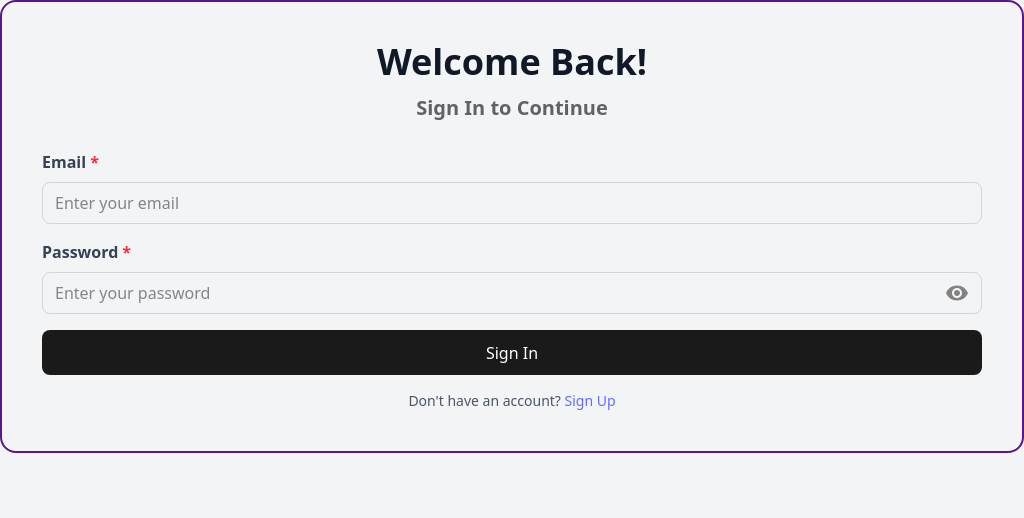
Test: SignIn Component Tests › displays validation message for invalid email format
In the field labelled "Email *": (512, 203) left=42, top=182, right=982, bottom=224, type "invalidemail"
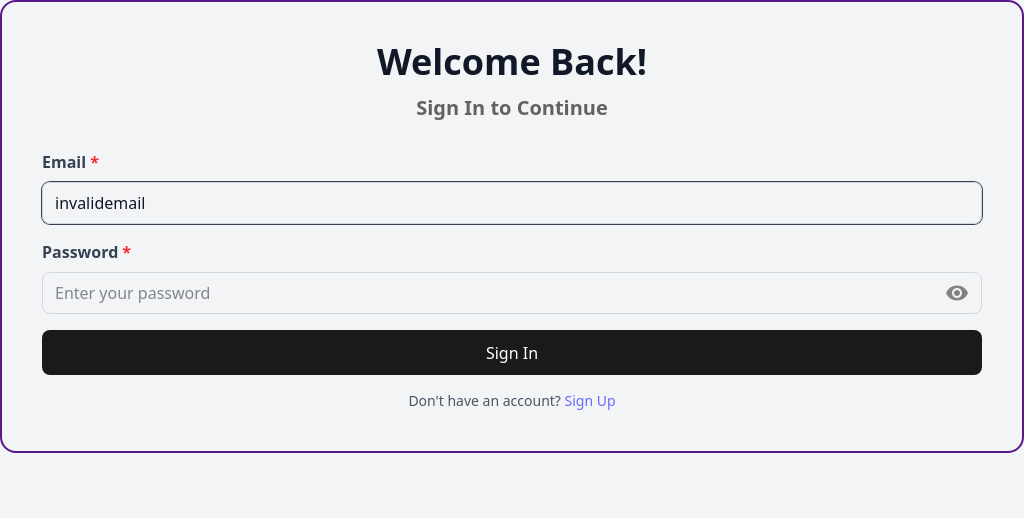
Click the button "Sign In": (512, 353) left=42, top=330, right=982, bottom=375
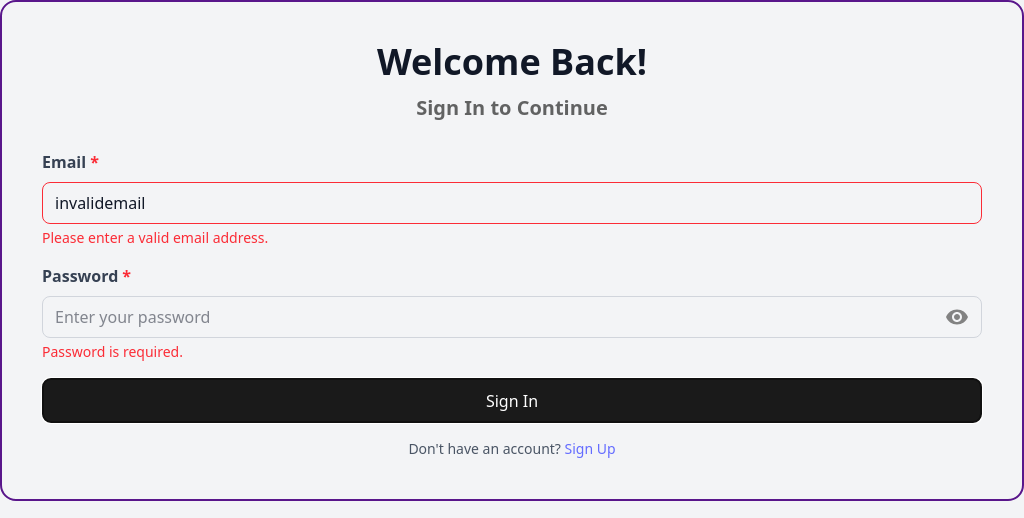
Expected: the text "Please enter a valid email address." is shown, left=42, top=228, right=268, bottom=247
